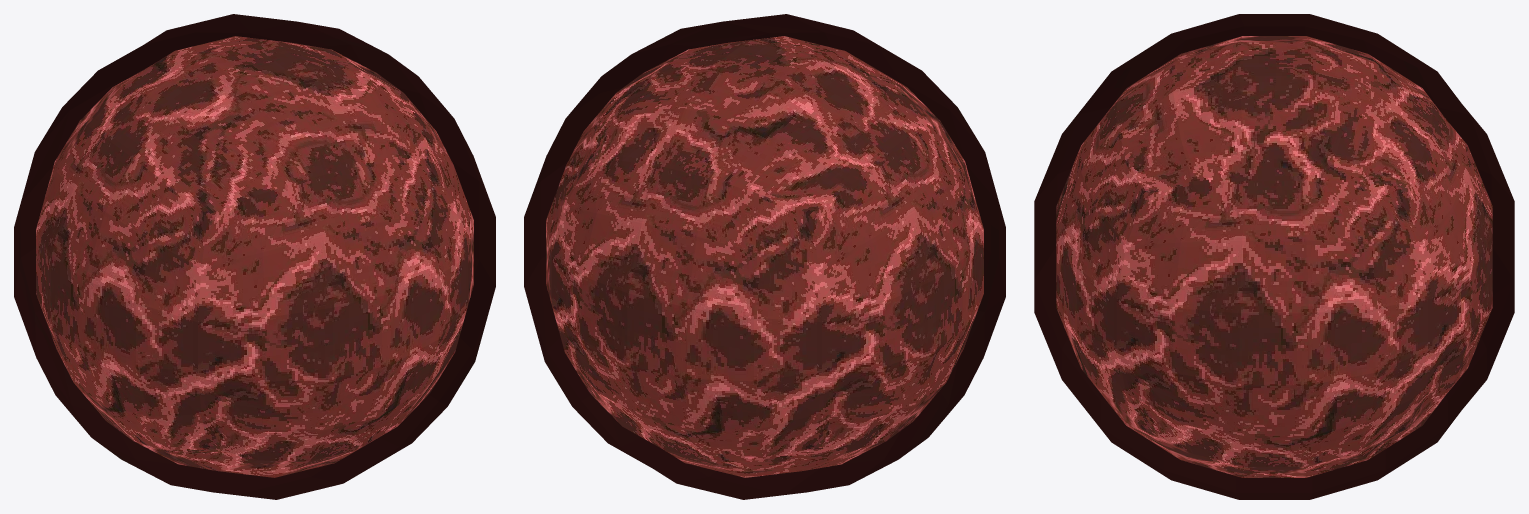
The model's file is planet_05.glb.
3 views of the same model, side by side, from view 1: azimuth 30°, elevation 25°; view 2: azimuth 150°, elevation 25°; view 3: azimuth 270°, elevation 25° (orthographic).
Parts seen in each view (by area): view 1: Object_2; view 2: Object_2; view 3: Object_2.
Part boxes in pixels (box(x1,y1,x2,y2)): Object_2: box(14, 14, 495, 499); Object_2: box(524, 14, 1005, 499); Object_2: box(1034, 14, 1514, 499).
Bounding box in the file's own units: 3.7 × 3.7 × 3.7.
1 material, 1 textured.
